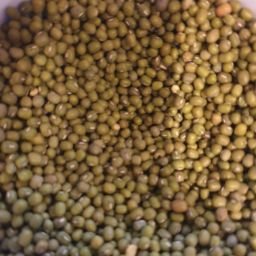Green gram dal(moong): (18, 3, 256, 118), (5, 103, 237, 219), (179, 43, 256, 256), (109, 60, 187, 256), (47, 78, 123, 256), (3, 16, 57, 252)
